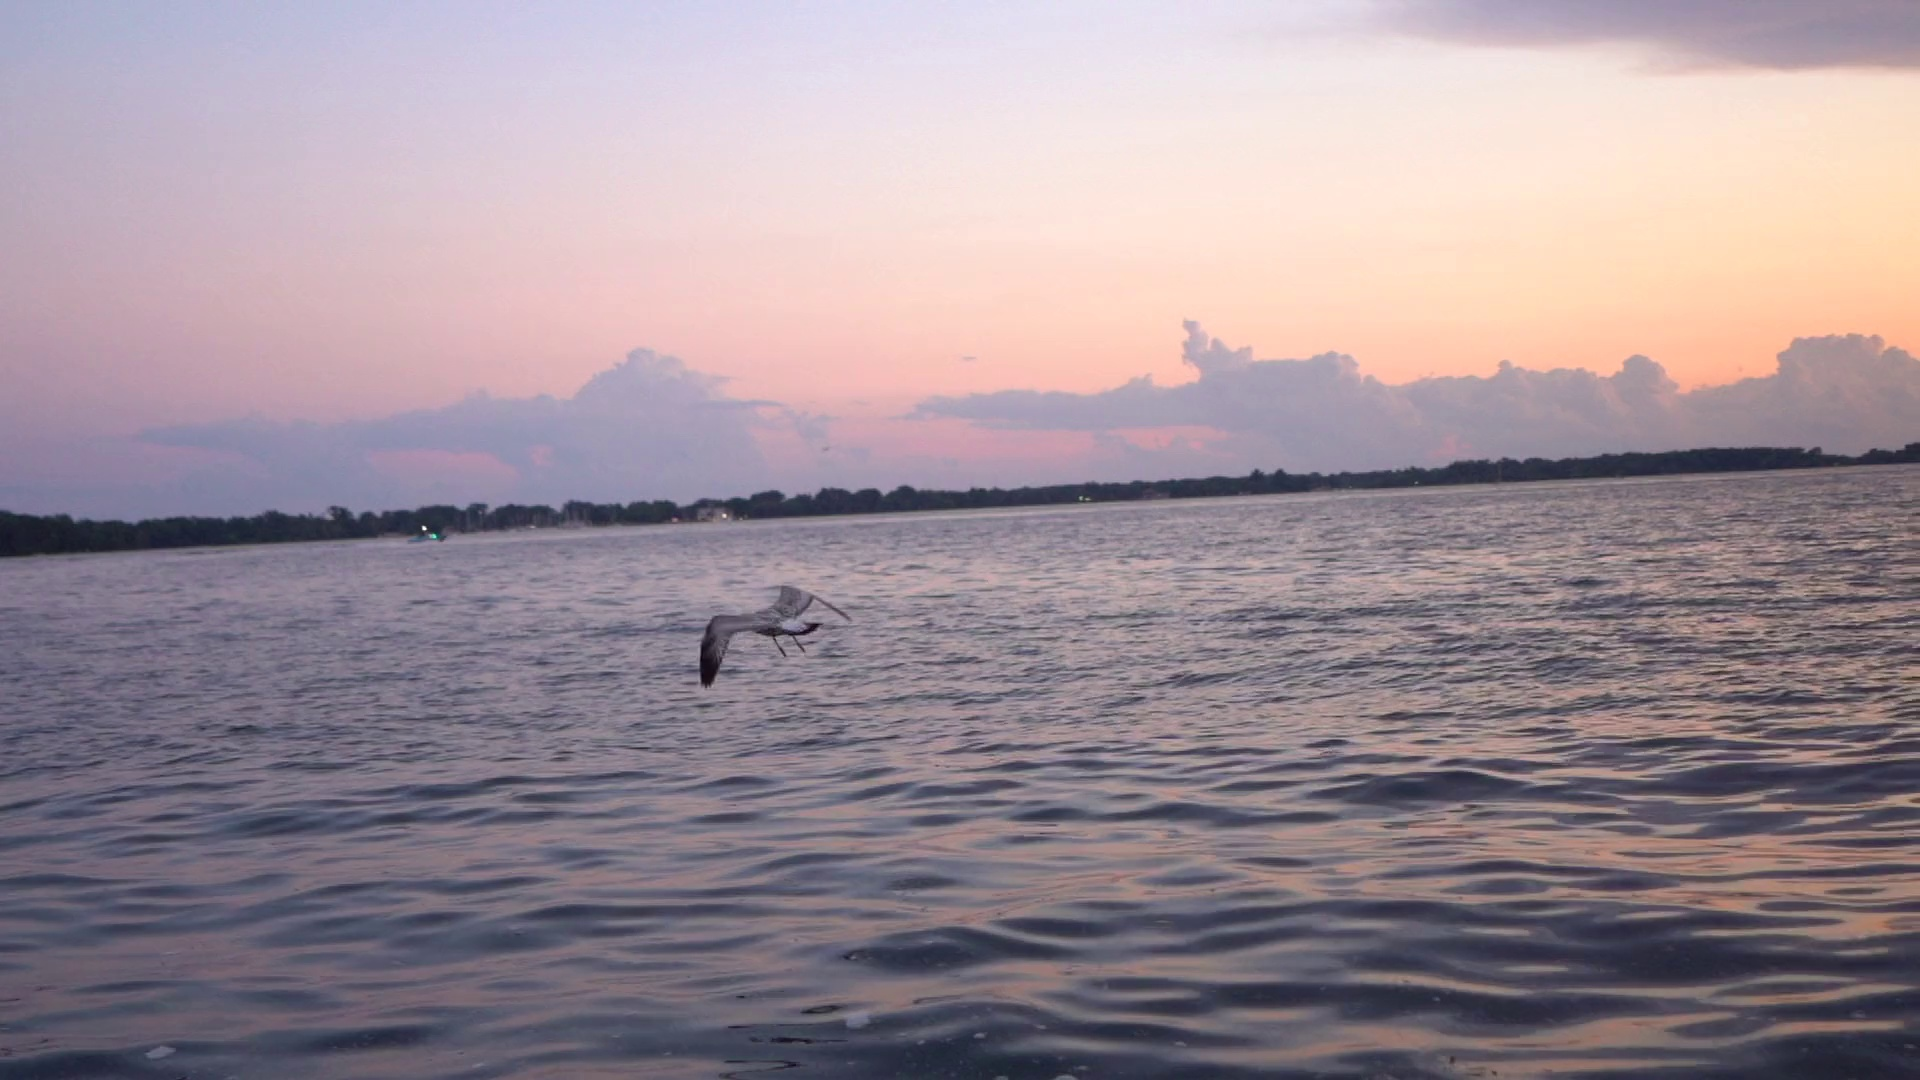bird: (696, 582, 851, 684)
